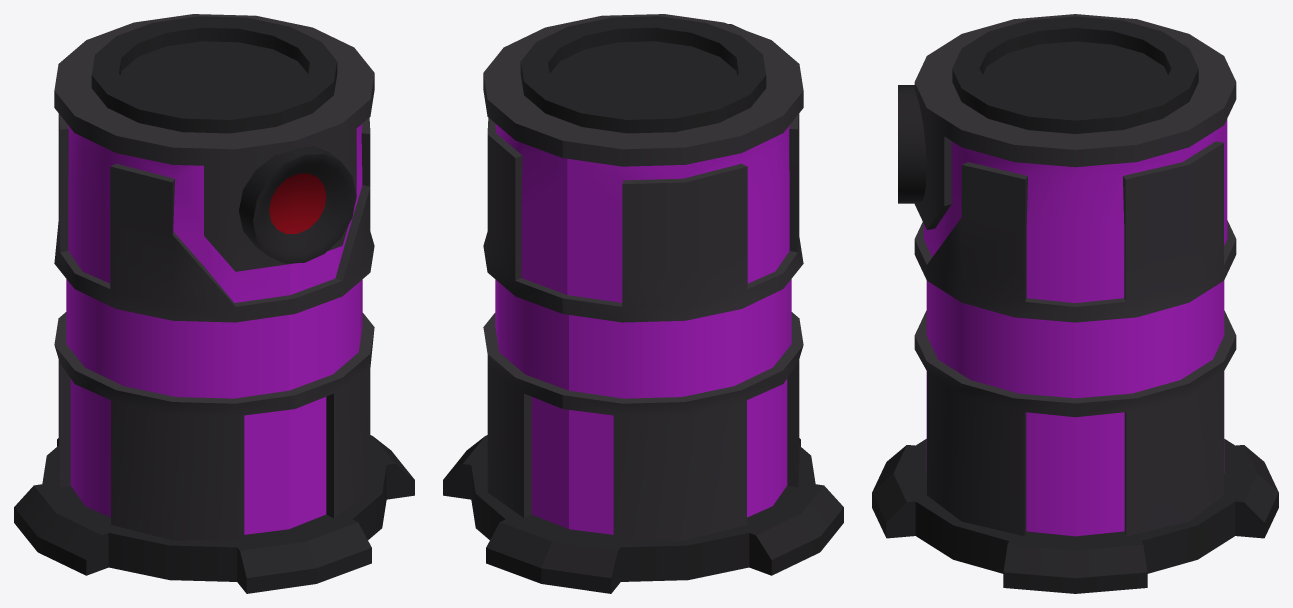
File: Turret.fbx
The picture shows the model from 3 angles, left to right: view 1: azimuth 30°, elevation 25°; view 2: azimuth 150°, elevation 25°; view 3: azimuth 270°, elevation 25°; orthographic projection.
Visible parts, largest first — view 1: Turret_Top, Turret_Base, Turret_Mid, Turret_Eye; view 2: Turret_Top, Turret_Base, Turret_Mid; view 3: Turret_Top, Turret_Base, Turret_Mid, Turret_Eye.
Boxes of the visible parts, x1,y1,x2,y2 form: Turret_Top: (54, 14, 374, 322); Turret_Base: (14, 312, 414, 593); Turret_Mid: (66, 279, 362, 398); Turret_Eye: (239, 146, 356, 263); Turret_Top: (483, 14, 803, 322); Turret_Base: (443, 312, 843, 593); Turret_Mid: (495, 279, 791, 398); Turret_Top: (914, 14, 1236, 322); Turret_Base: (872, 310, 1278, 593); Turret_Mid: (926, 281, 1224, 398); Turret_Eye: (898, 85, 926, 203).
Bounding box in the file's own units: 137 × 163 × 137.
